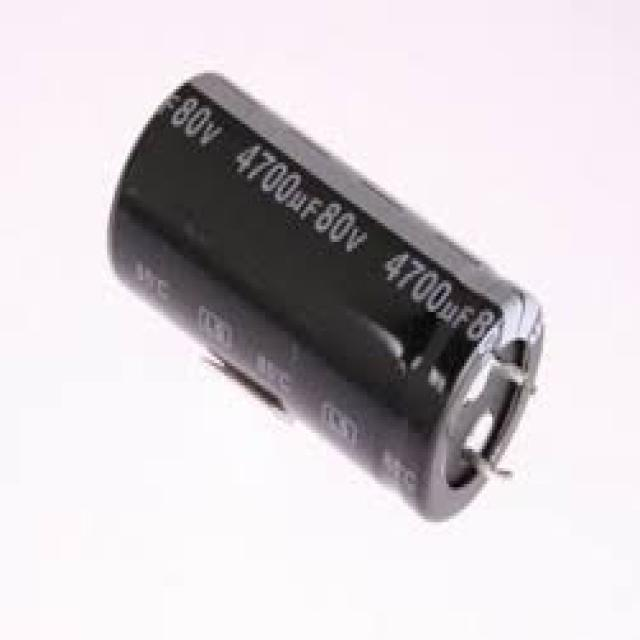Capacitor: (107, 73, 546, 522)
